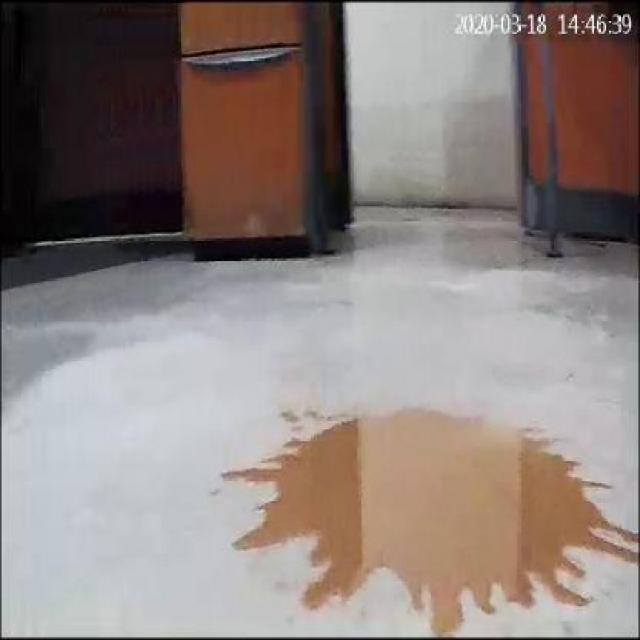spill: (219, 402, 636, 638)
